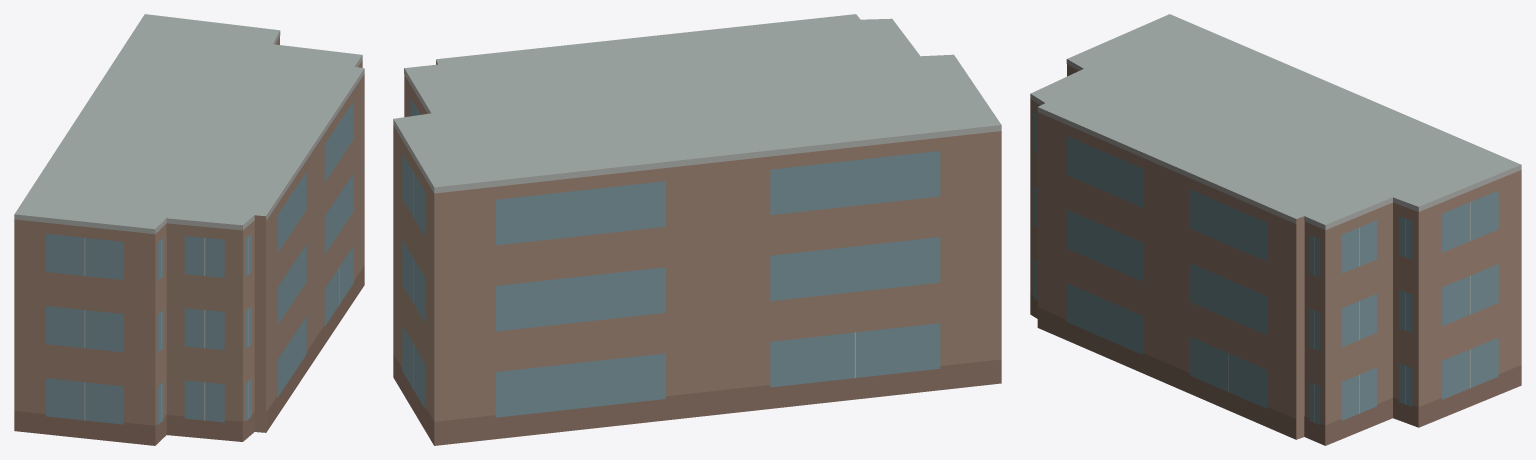
File: survey-upis-32952626.glb
3 views of the same model, side by side, from view 1: azimuth 30°, elevation 25°; view 2: azimuth 150°, elevation 25°; view 3: azimuth 270°, elevation 25° (orthographic). The views are drawn at different scales.
Parts seen in each view (by area): view 1: survey-upis-32952626.tmp; view 2: survey-upis-32952626.tmp; view 3: survey-upis-32952626.tmp.
Boxes of the visible parts, left/top/right/bottom form: survey-upis-32952626.tmp: left=14, top=14, right=364, bottom=445; survey-upis-32952626.tmp: left=393, top=14, right=1001, bottom=445; survey-upis-32952626.tmp: left=1030, top=14, right=1521, bottom=445.
Size of the model in its own units: 21.54 by 10.5 by 21.18.
